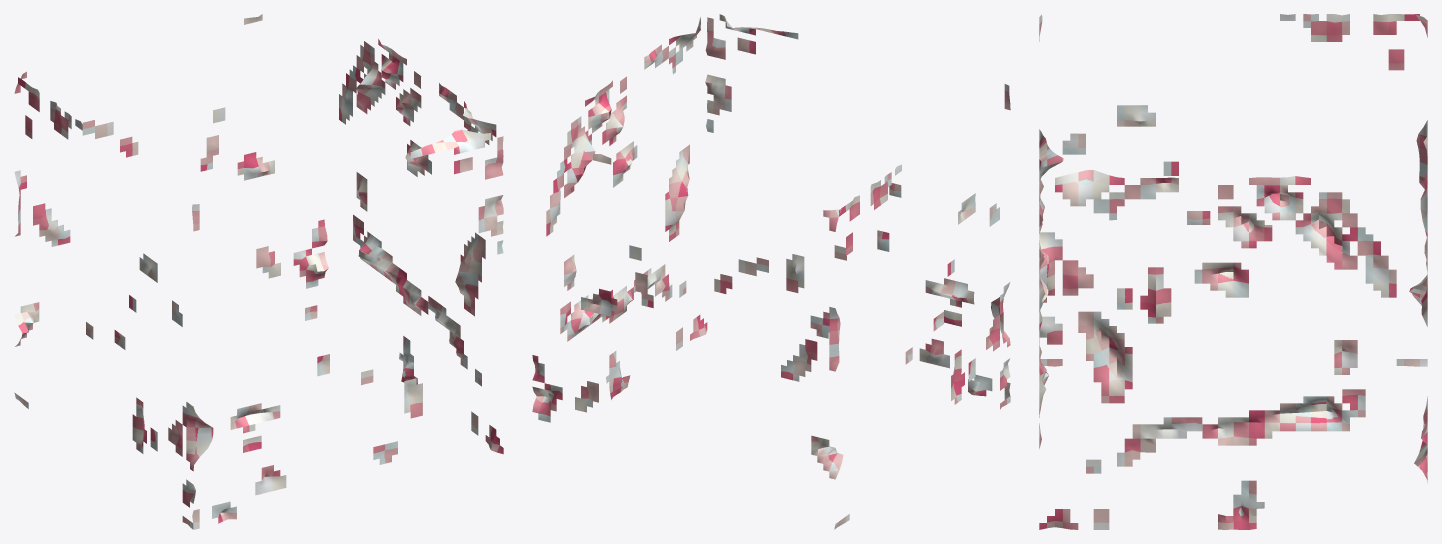
File: Wire_small_mountains.fbx
3 renders of one model, left to right at view 1: azimuth 30°, elevation 25°; view 2: azimuth 150°, elevation 25°; view 3: azimuth 270°, elevation 25°, orthographic. The views are drawn at different scales.
Parts seen in each view (by area): view 1: Plane_3, Plane, Plane_1, Plane_2; view 2: Plane_3, Plane_1, Plane, Plane_2; view 3: Plane_3, Plane_2, Plane_1, Plane.
Part boxes in pixels (x1=…): Plane_3: x1=339, y1=39, x2=503, y2=454; Plane: x1=192, y1=129, x2=503, y2=529; Plane_1: x1=14, y1=14, x2=328, y2=346; Plane_2: x1=14, y1=77, x2=213, y2=529; Plane_3: x1=546, y1=17, x2=707, y2=399; Plane_1: x1=532, y1=154, x2=843, y2=479; Plane: x1=705, y1=14, x2=1010, y2=399; Plane_2: x1=834, y1=164, x2=1010, y2=529; Plane_3: x1=1039, y1=170, x2=1396, y2=529; Plane_2: x1=1039, y1=14, x2=1427, y2=366; Plane_1: x1=1409, y1=14, x2=1427, y2=482; Plane: x1=1039, y1=14, x2=1063, y2=448.
Bounding box in the file's own units: 100 × 100 × 100.
1 material, 1 textured.
